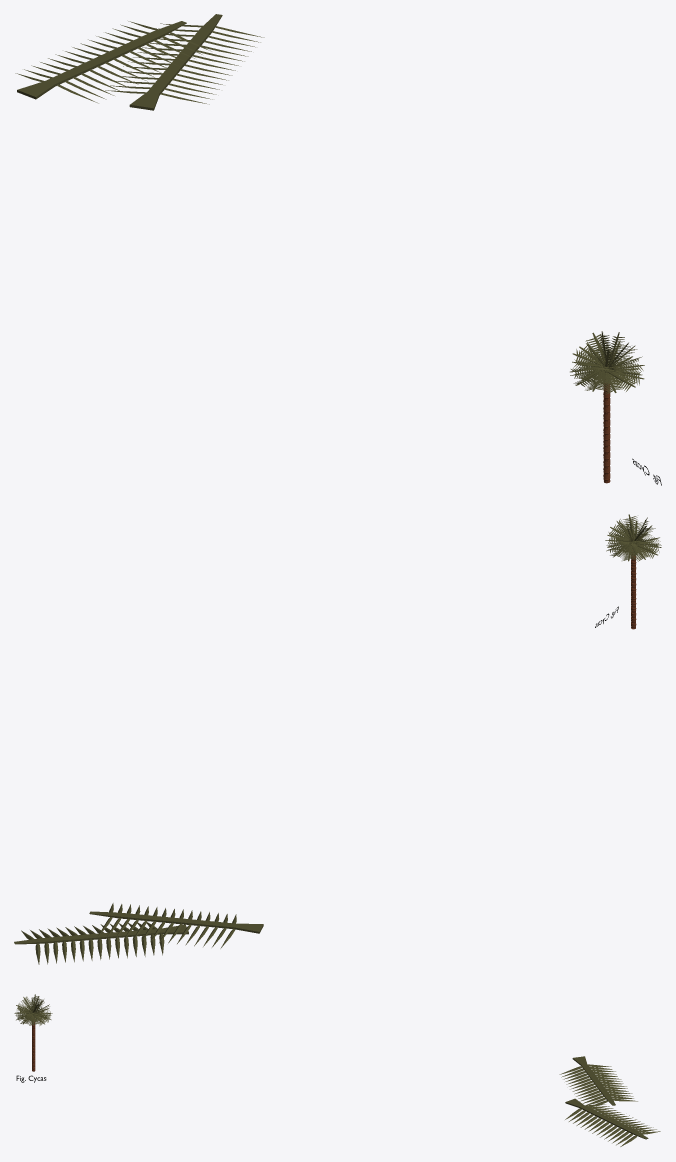
File: Phanerogams_RushalNandeshwar.gltf
3 renders of one model, top to bottom at view 1: azimuth 30°, elevation 25°; view 2: azimuth 150°, elevation 25°; view 3: azimuth 270°, elevation 25°, orthographic. The views are drawn at different scales.
Visible parts, largest first — view 1: Plane.001, Plane.002, Icosphere.001; view 2: Plane.002, Plane.001; view 3: Plane.001, Plane.002.
Boxes of the visible parts, x1=… form: Plane.001: x1=15, y1=21, x2=211, y2=103; Plane.002: x1=105, y1=14, x2=264, y2=110; Icosphere.001: x1=603, y1=365, x2=610, y2=483; Plane.002: x1=14, y1=922, x2=188, y2=964; Plane.001: x1=89, y1=903, x2=263, y2=948; Plane.001: x1=559, y1=1056, x2=637, y2=1108; Plane.002: x1=565, y1=1098, x2=660, y2=1146.
Bounding box in the file's own units: 166 × 102 × 646.
